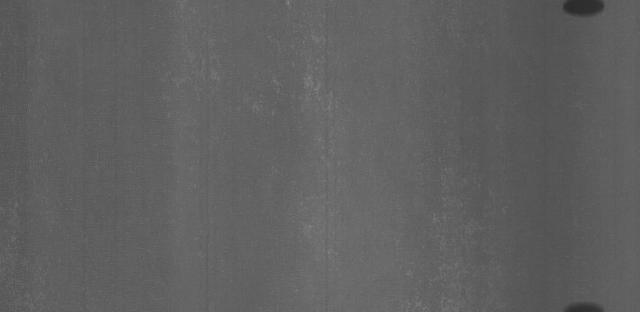oil_spot: (554, 0, 610, 23), (560, 299, 610, 310)
